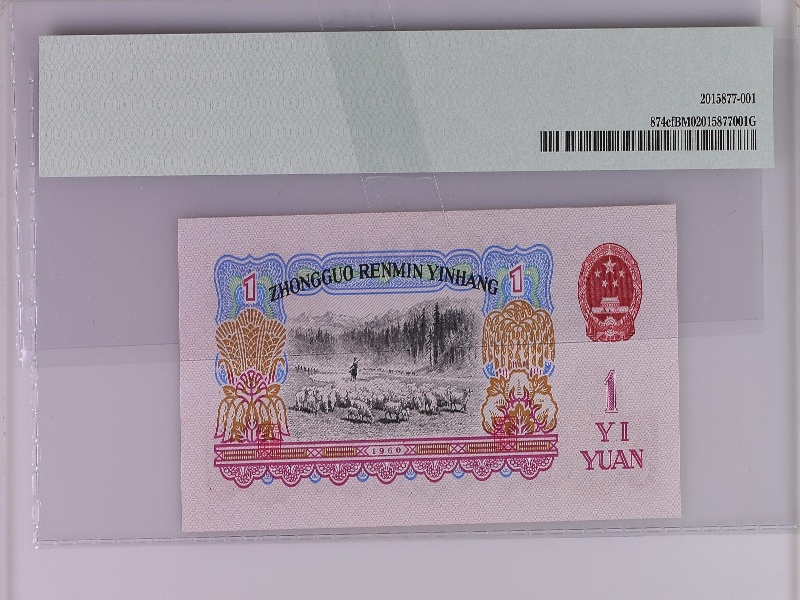papernote: (173, 207, 685, 530)
